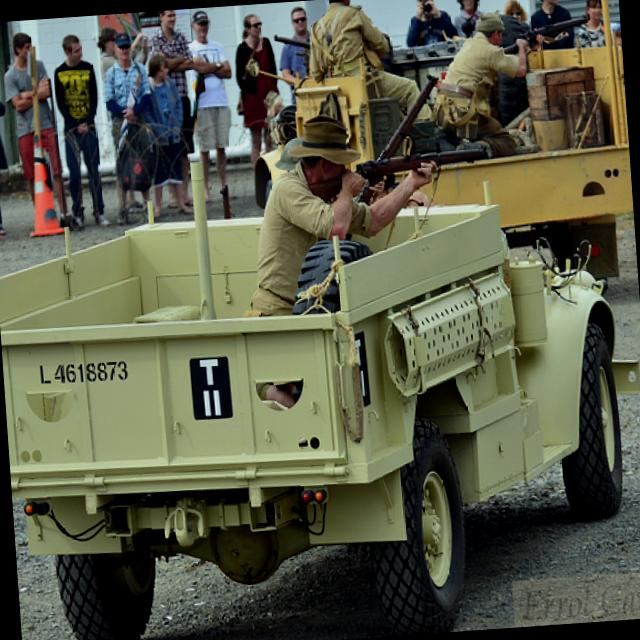Vehicle: (0, 121, 634, 640), (241, 0, 637, 307)
